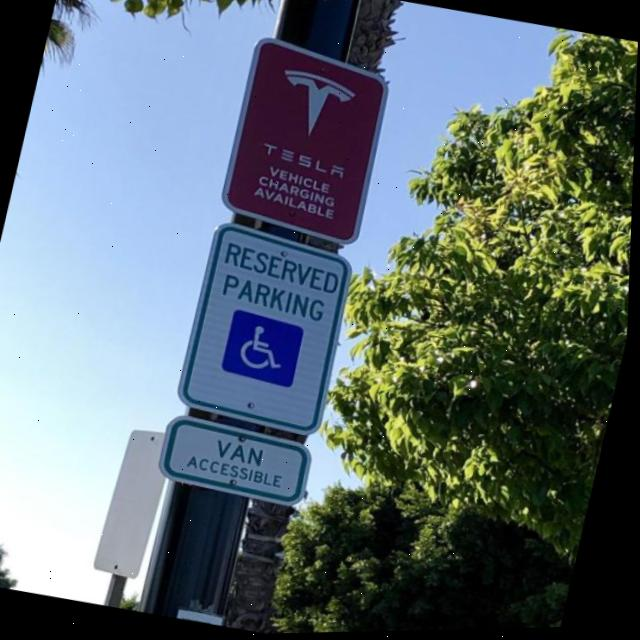symbol_of_access: (225, 314, 306, 386)
